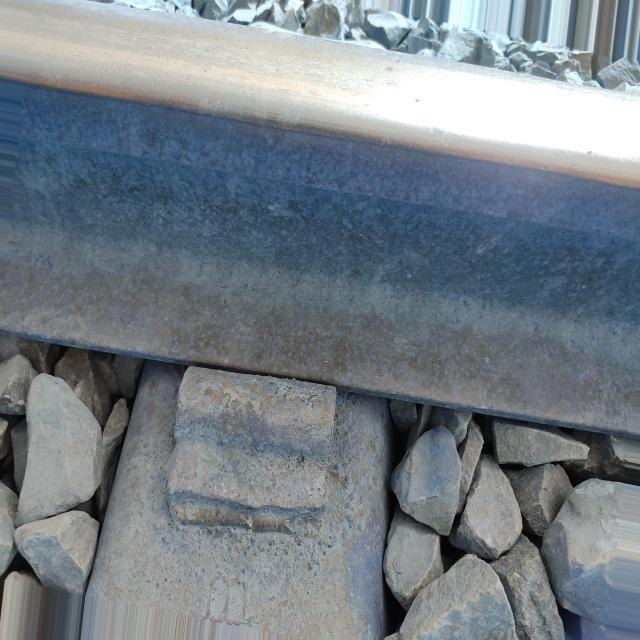Missing Fastener: (138, 365, 353, 546)
